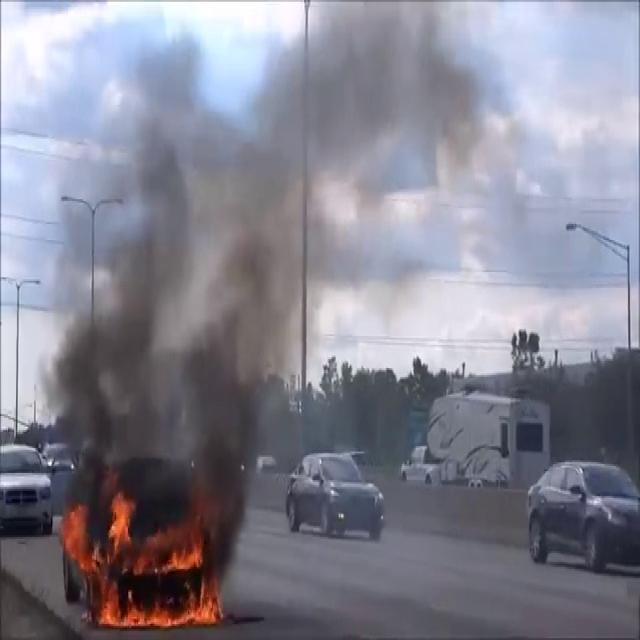Fire: (61, 485, 222, 631)
Smoke: (38, 6, 388, 540)
